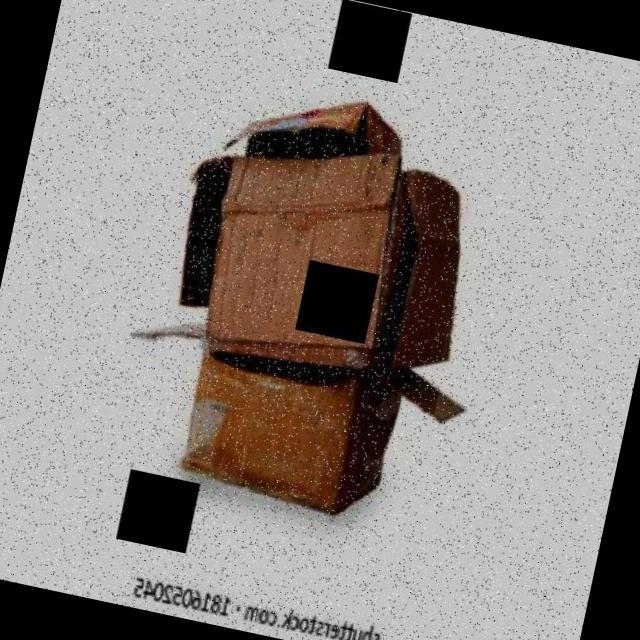box: (161, 70, 490, 380), (123, 314, 442, 540)
